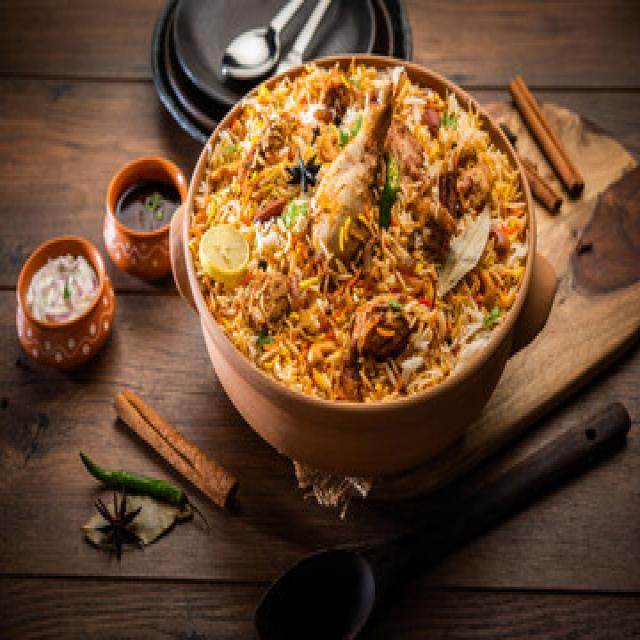BIRIYANI: (187, 56, 533, 411)
